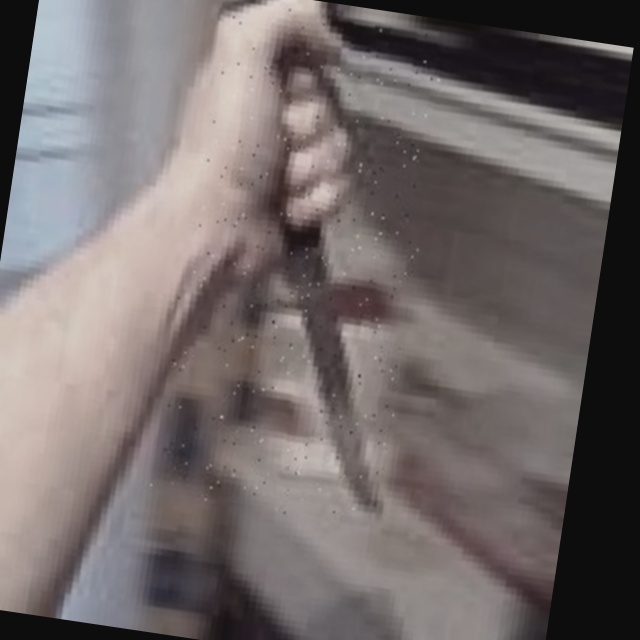Sharp-Object: (149, 0, 450, 527)
